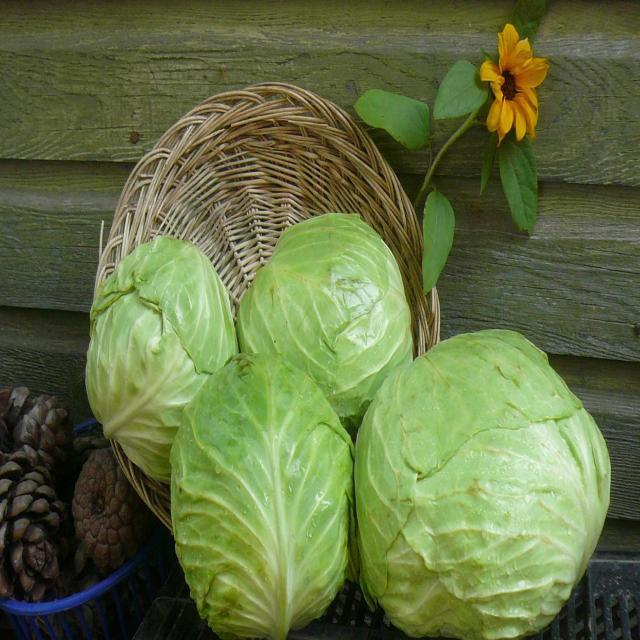cabbage: (354, 322, 615, 640), (163, 342, 359, 640), (83, 225, 240, 487), (239, 211, 421, 436)
